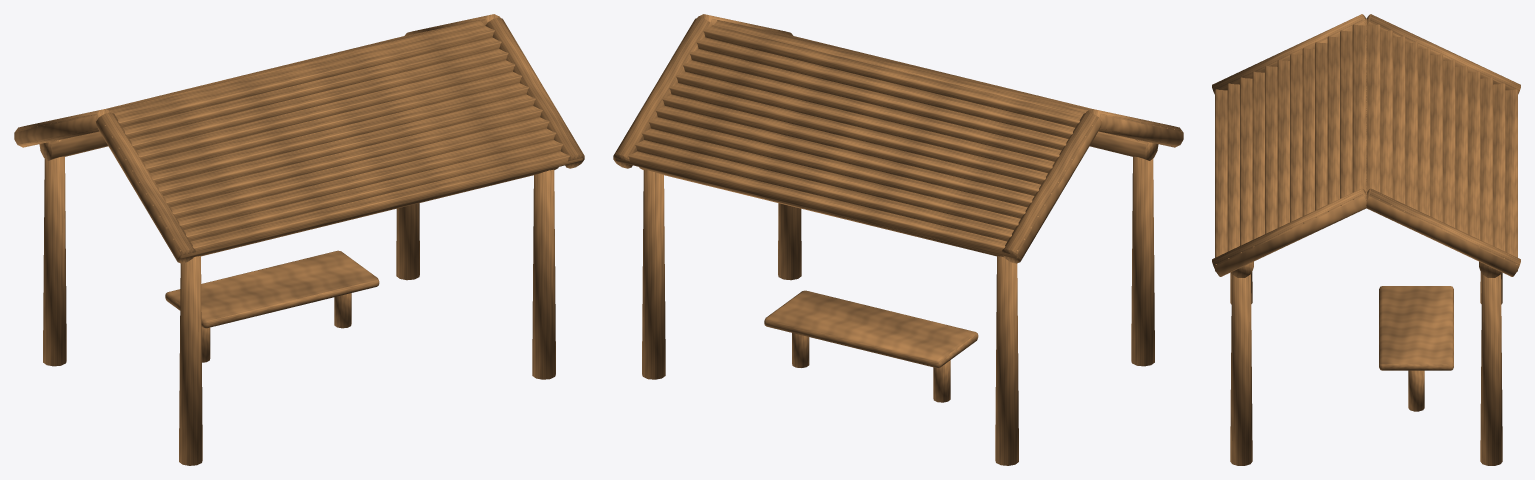
The model's file is woodcutters_shelter.glb.
3 renders of one model, left to right at view 1: azimuth 30°, elevation 25°; view 2: azimuth 150°, elevation 25°; view 3: azimuth 270°, elevation 25°, orthographic. The views are drawn at different scales.
Parts seen in each view (by area): view 1: woodcutters_shelter.001; view 2: woodcutters_shelter.001; view 3: woodcutters_shelter.001.
Boxes of the visible parts, bbox=[...] form: woodcutters_shelter.001: bbox=[14, 14, 584, 465]; woodcutters_shelter.001: bbox=[613, 14, 1183, 465]; woodcutters_shelter.001: bbox=[1212, 14, 1520, 465].
Size of the model in its own units: 6.92 by 4.93 by 4.94.
1 material, 1 textured.
